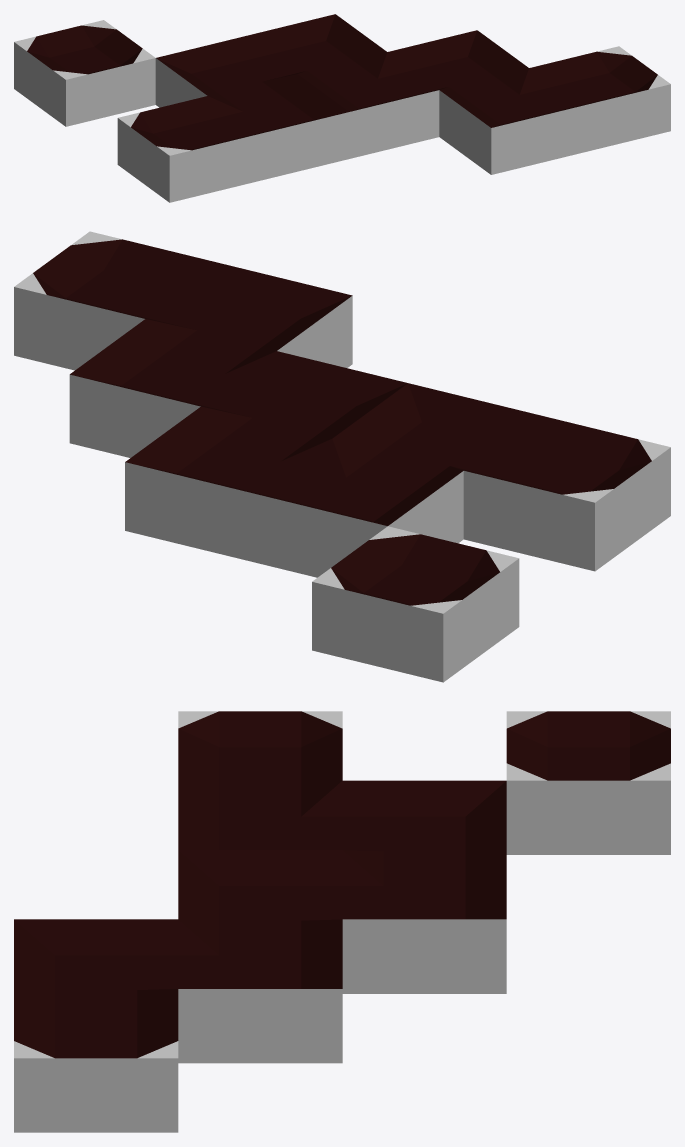
File: 14s_path.obj
The picture shows the model from 3 angles, top to bottom: view 1: azimuth 30°, elevation 25°; view 2: azimuth 150°, elevation 25°; view 3: azimuth 270°, elevation 25°; orthographic projection. The views are drawn at different scales.
Parts seen in each view (by area): view 1: hole.0.4_Cube.028, ending.0.2_ending.053, corner.3.1_corner.139, ending.4.1_ending.054, corner.1.2_corner.135, corner.2.2_corner.137, corner.1.3_corner.136, corner.3.2_corner.140, corner.2.3_corner.138; view 2: hole.0.4_Cube.028, ending.0.2_ending.053, corner.2.3_corner.138, ending.4.1_ending.054, corner.1.3_corner.136, corner.3.2_corner.140, corner.3.1_corner.139, corner.1.2_corner.135, corner.2.2_corner.137; view 3: hole.0.4_Cube.028, corner.3.2_corner.140, ending.4.1_ending.054, corner.2.3_corner.138, corner.1.3_corner.136, corner.3.1_corner.139, ending.0.2_ending.053, corner.2.2_corner.137, corner.1.2_corner.135.
Part boxes in pixels (bbox=[...]): hole.0.4_Cube.028: bbox=[14, 20, 155, 126]; ending.0.2_ending.053: bbox=[117, 96, 259, 202]; corner.3.1_corner.139: bbox=[439, 68, 580, 174]; ending.4.1_ending.054: bbox=[529, 46, 670, 152]; corner.1.2_corner.135: bbox=[208, 74, 349, 180]; corner.2.2_corner.137: bbox=[298, 52, 439, 158]; corner.1.3_corner.136: bbox=[155, 36, 296, 107]; corner.3.2_corner.140: bbox=[387, 30, 528, 96]; corner.2.3_corner.138: bbox=[246, 14, 386, 80]; hole.0.4_Cube.028: bbox=[312, 526, 519, 682]; ending.0.2_ending.053: bbox=[463, 415, 670, 571]; corner.2.3_corner.138: bbox=[125, 407, 331, 562]; ending.4.1_ending.054: bbox=[14, 231, 220, 370]; corner.1.3_corner.136: bbox=[256, 439, 463, 577]; corner.3.2_corner.140: bbox=[69, 319, 276, 457]; corner.3.1_corner.139: bbox=[146, 263, 352, 367]; corner.1.2_corner.135: bbox=[332, 383, 539, 479]; corner.2.2_corner.137: bbox=[201, 351, 407, 447]; hole.0.4_Cube.028: bbox=[506, 711, 670, 854]; corner.3.2_corner.140: bbox=[178, 919, 342, 1063]; ending.4.1_ending.054: bbox=[14, 989, 178, 1132]; corner.2.3_corner.138: bbox=[342, 850, 506, 993]; corner.1.3_corner.136: bbox=[342, 780, 506, 868]; corner.3.1_corner.139: bbox=[14, 919, 178, 1007]; ending.0.2_ending.053: bbox=[178, 711, 342, 799]; corner.2.2_corner.137: bbox=[178, 850, 342, 937]; corner.1.2_corner.135: bbox=[178, 780, 342, 849].
Bounding box in the file's own units: 10 × 1 × 8.
